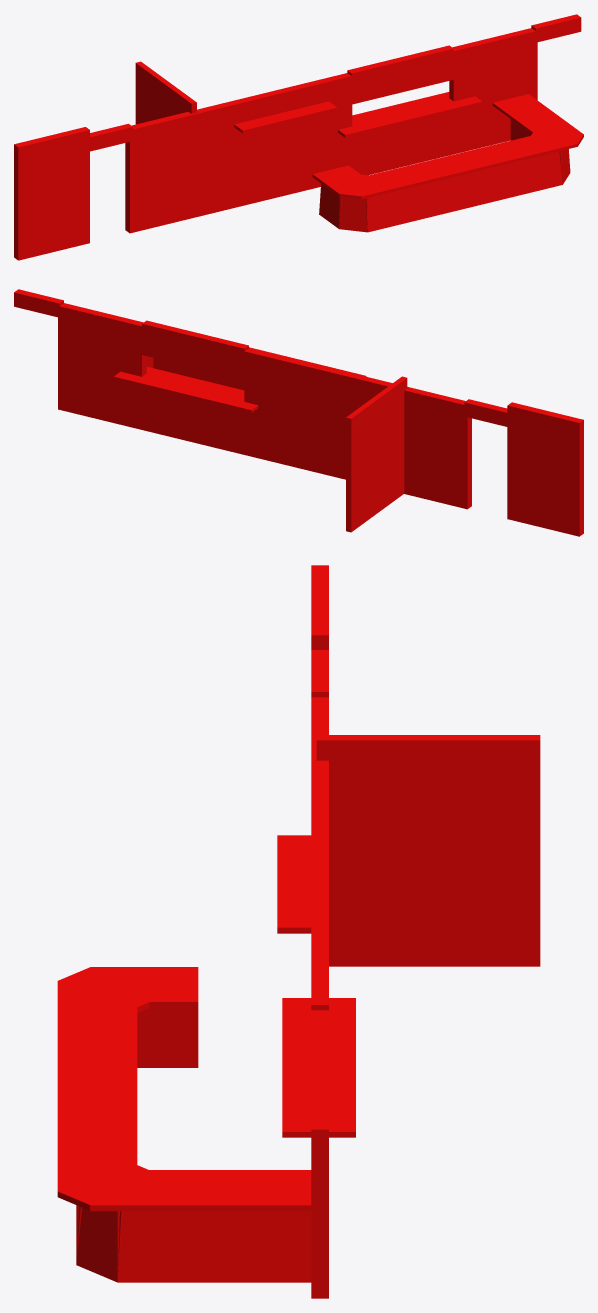
The model's file is SM_Bld_Diner_Interior_02_Collision.fbx.
3 views of the same model, one above another, from view 1: azimuth 30°, elevation 25°; view 2: azimuth 150°, elevation 25°; view 3: azimuth 270°, elevation 25° (orthographic). The views are drawn at different scales.
Visible parts, largest first — view 1: SM_Bld_Diner_Interior_01_Collision; view 2: SM_Bld_Diner_Interior_01_Collision; view 3: SM_Bld_Diner_Interior_01_Collision.
Part boxes in pixels (box(x1,y1,x2,y2)): SM_Bld_Diner_Interior_01_Collision: box(14, 14, 583, 260); SM_Bld_Diner_Interior_01_Collision: box(14, 289, 583, 536); SM_Bld_Diner_Interior_01_Collision: box(57, 565, 540, 1298).
Bounding box in the file's own units: 1531 × 295 × 568.
